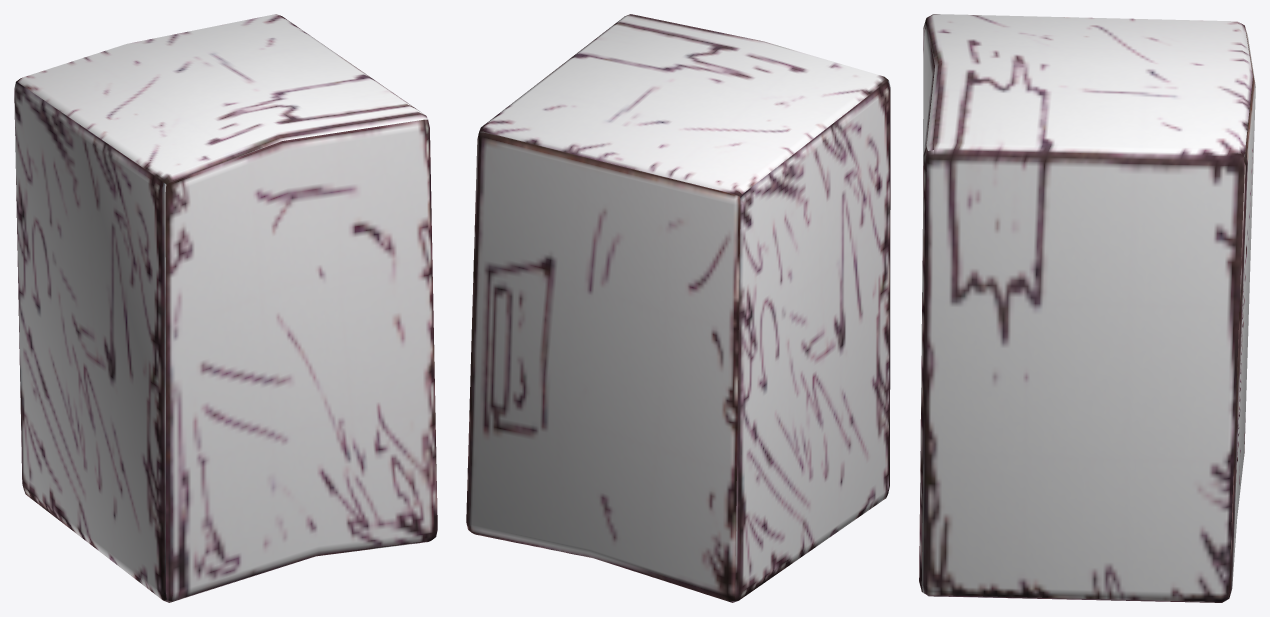
3 views of the same model, side by side, from view 1: azimuth 30°, elevation 25°; view 2: azimuth 150°, elevation 25°; view 3: azimuth 270°, elevation 25° (orthographic). The views are drawn at different scales.
Visible parts, largest first — view 1: CardboardBox 2; view 2: CardboardBox 2; view 3: CardboardBox 2.
Boxes of the visible parts, x1,y1,x2,y2 form: CardboardBox 2: [14, 14, 437, 602]; CardboardBox 2: [466, 14, 890, 602]; CardboardBox 2: [919, 14, 1255, 602].
Size of the model in its own units: 33.67 by 48.81 by 32.38.
Materials: 1 (1 with a texture image).
